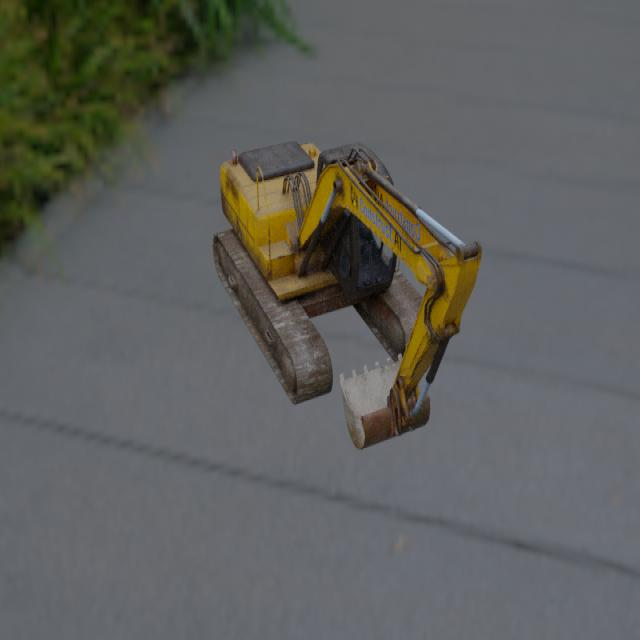excavator: (212, 140, 482, 449)
